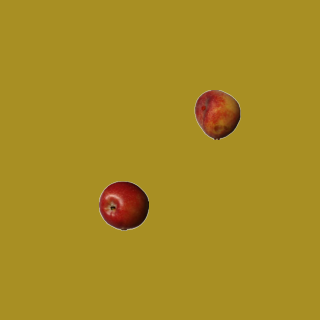Apple Braeburn: (98, 180, 148, 230)
Peach: (192, 89, 242, 139)
